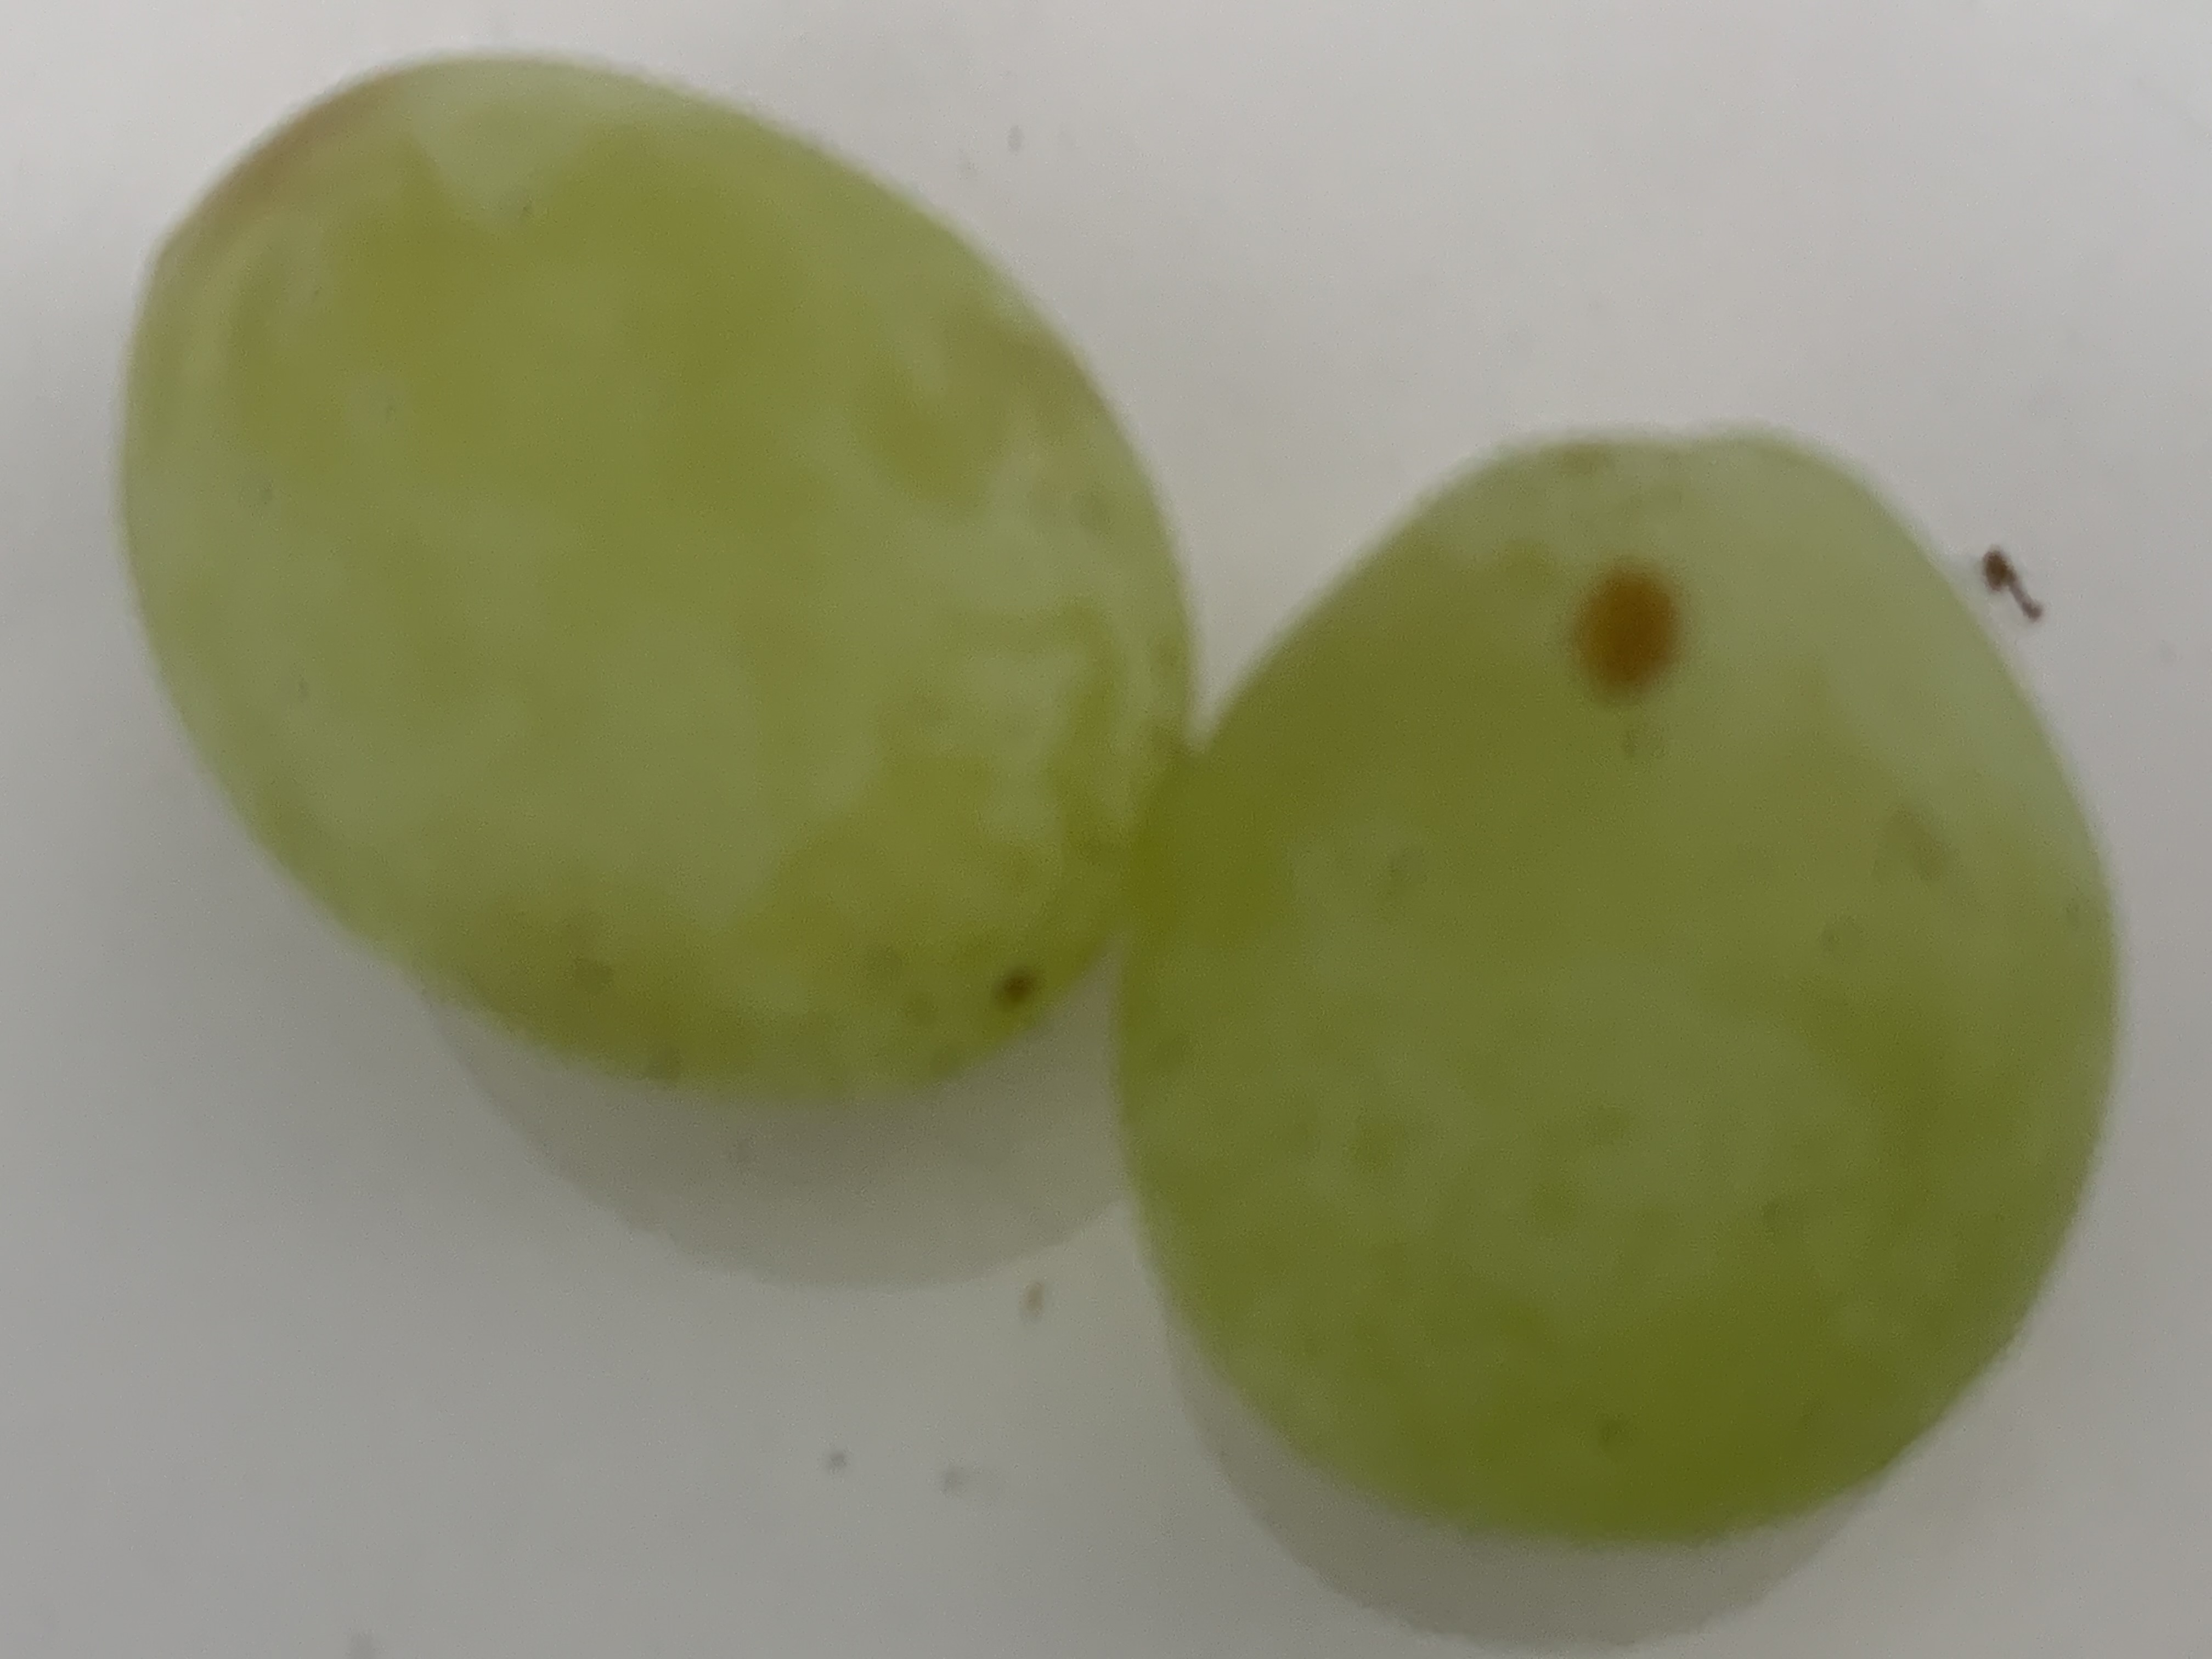grapes: (129, 51, 1111, 1096), (1139, 448, 2083, 1516)
